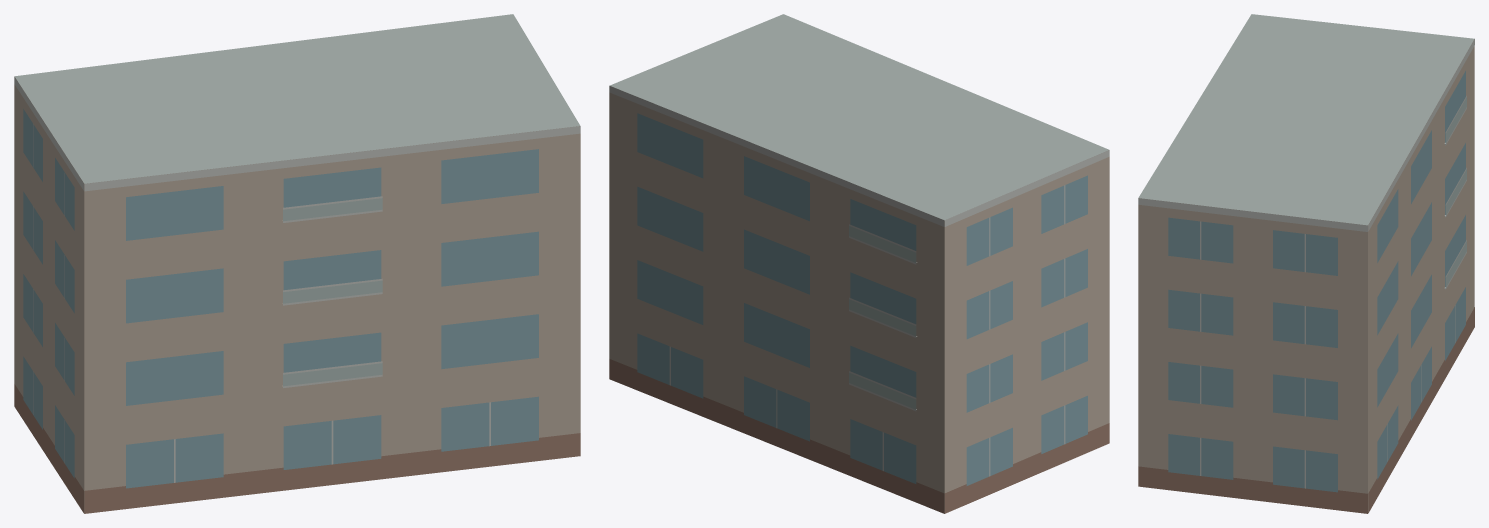
The model's file is survey-upis-32938594.glb.
3 renders of one model, left to right at view 1: azimuth 30°, elevation 25°; view 2: azimuth 150°, elevation 25°; view 3: azimuth 270°, elevation 25°, orthographic. The views are drawn at different scales.
Parts seen in each view (by area): view 1: survey-upis-32938594.tmp; view 2: survey-upis-32938594.tmp; view 3: survey-upis-32938594.tmp.
Part boxes in pixels (bbox=[...]): survey-upis-32938594.tmp: bbox=[14, 14, 580, 513]; survey-upis-32938594.tmp: bbox=[609, 14, 1109, 513]; survey-upis-32938594.tmp: bbox=[1138, 14, 1474, 513].
Size of the model in its own units: 16.51 by 10.5 by 11.11.
